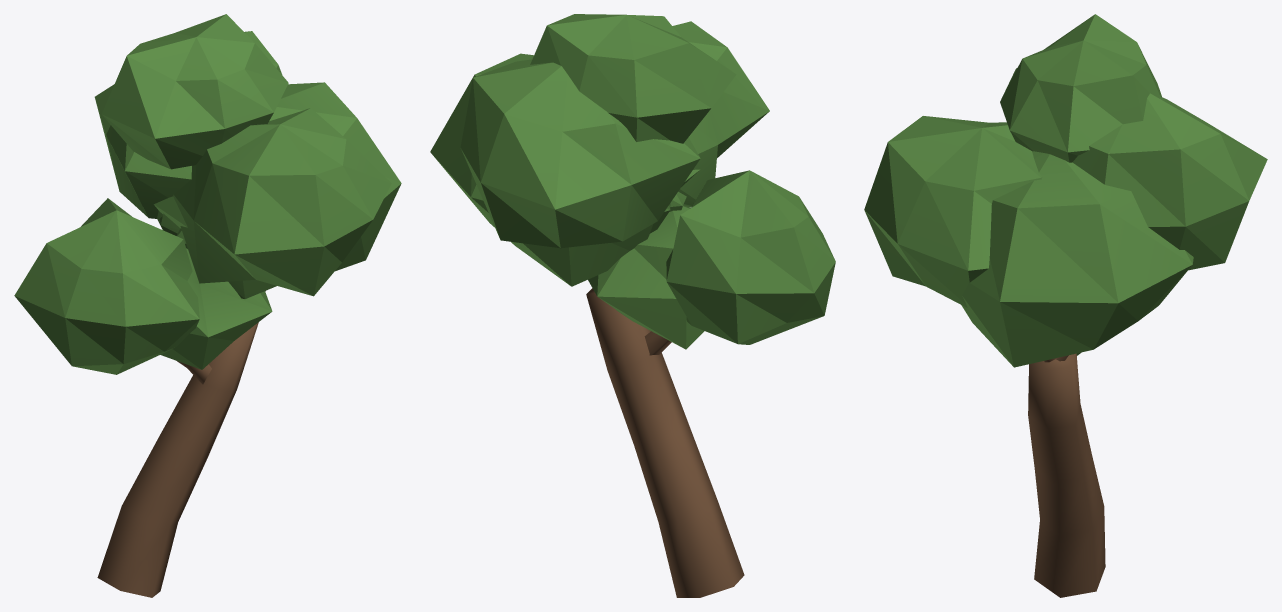
The model's file is oak_2.glb.
The picture shows the model from 3 angles, left to right: view 1: azimuth 30°, elevation 25°; view 2: azimuth 150°, elevation 25°; view 3: azimuth 270°, elevation 25°; orthographic projection. The views are drawn at different scales.
Parts seen in each view (by area): view 1: oak_2; view 2: oak_2; view 3: oak_2.
Part boxes in pixels (x1,y1,x2,y2): oak_2: [14, 14, 401, 597]; oak_2: [430, 14, 835, 597]; oak_2: [864, 14, 1267, 597].
Size of the model in its own units: 4.49 by 6.58 by 4.14.
